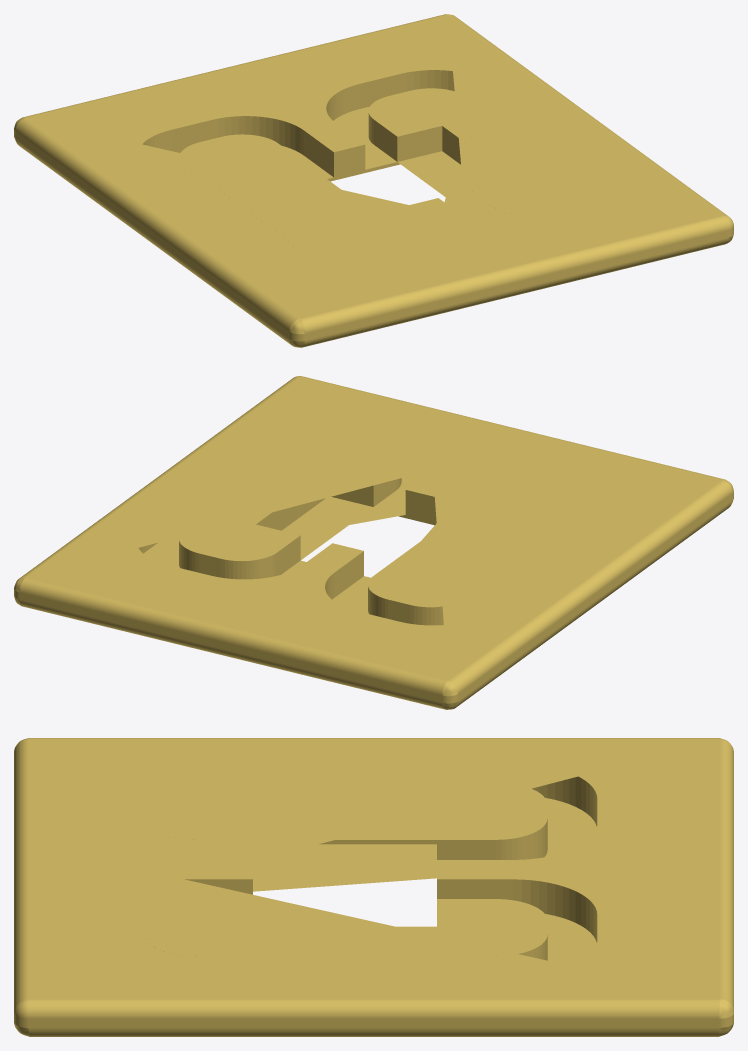
File: Ahsap_Parca_1.fbx
The picture shows the model from 3 angles, top to bottom: view 1: azimuth 30°, elevation 25°; view 2: azimuth 150°, elevation 25°; view 3: azimuth 270°, elevation 25°; orthographic projection. The views are drawn at different scales.
Visible parts, largest first — view 1: Cube, Cube.003; view 2: Cube, Cube.003; view 3: Cube, Cube.003.
Boxes of the visible parts, x1,y1,x2,y2 form: Cube: [14, 14, 733, 347]; Cube.003: [282, 106, 465, 217]; Cube: [14, 376, 733, 709]; Cube.003: [143, 470, 436, 613]; Cube: [14, 738, 733, 1036]; Cube.003: [253, 798, 596, 965].
Bounding box in the file's own units: 538 × 33 × 601.
